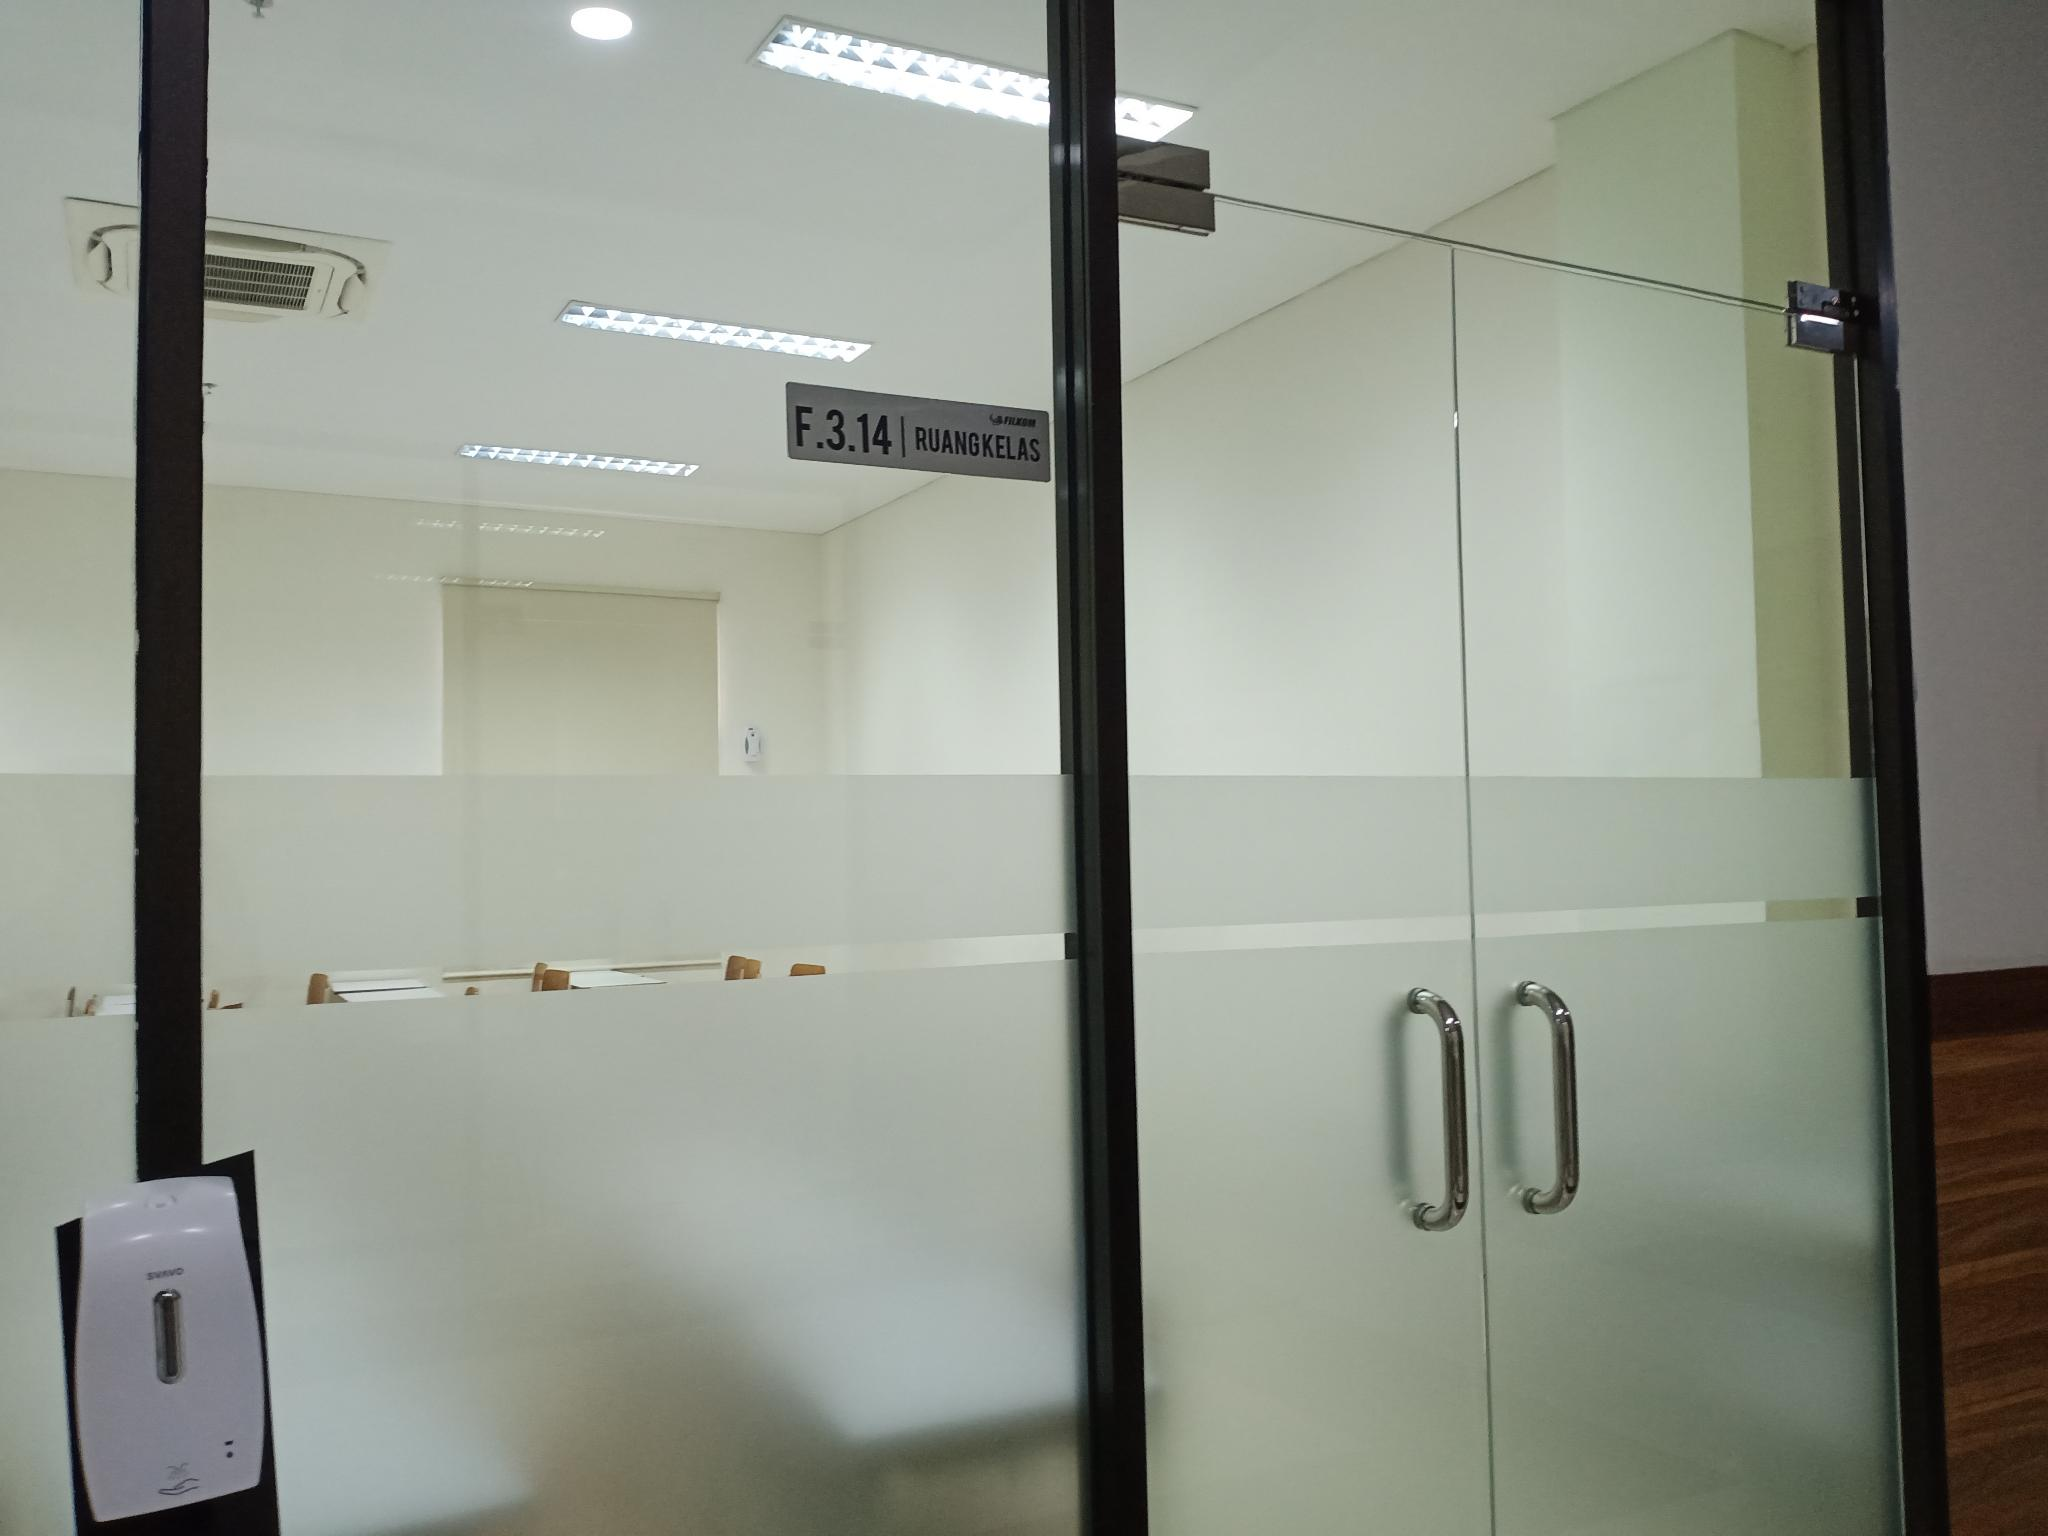plate: (787, 381, 1050, 482)
